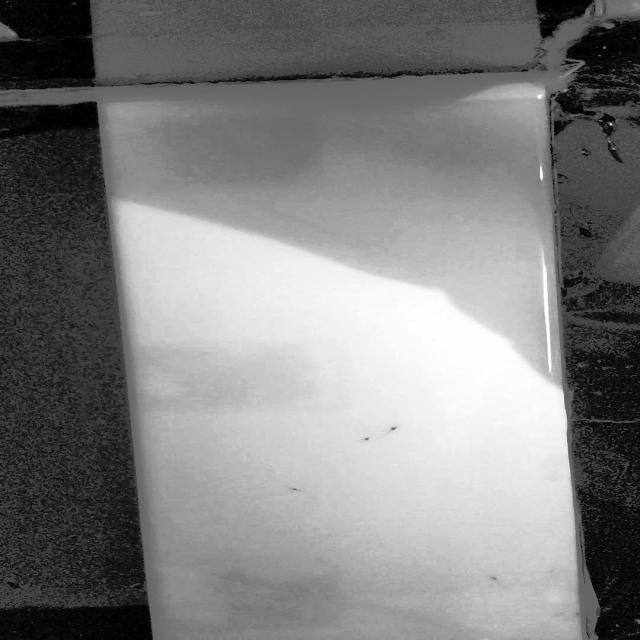shrimp: (375, 422, 409, 434), (354, 434, 382, 444)
